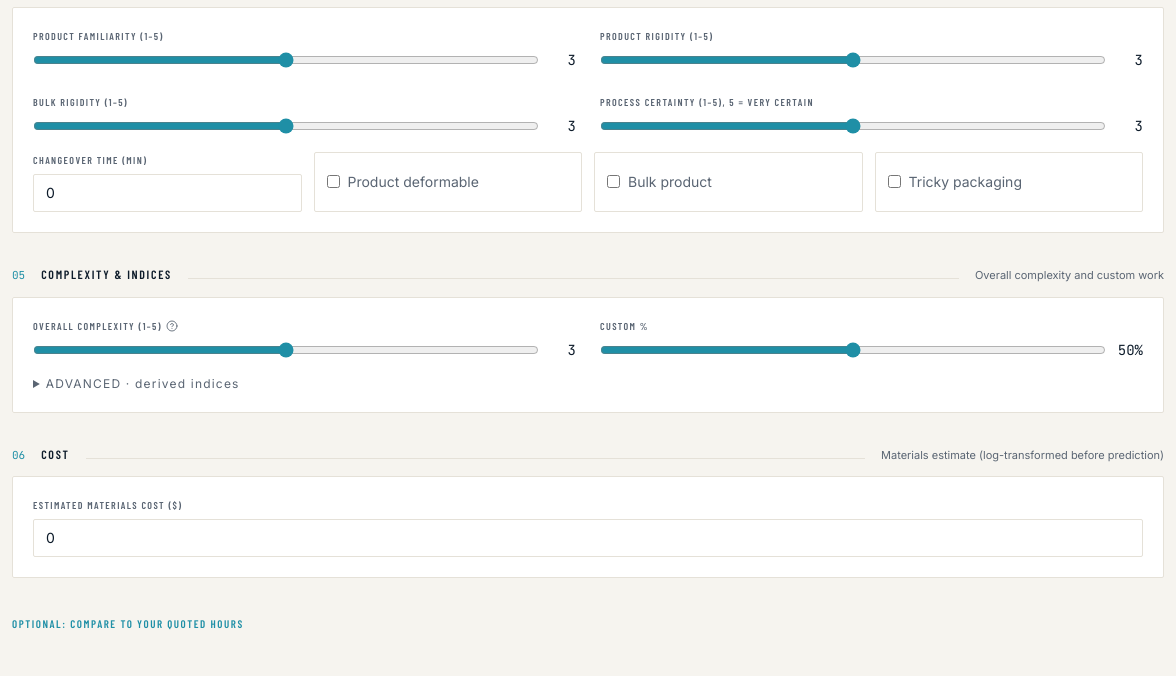
Test: QuoteForm — compare to your quoted hours panel (BUG-01) › does not show inline validation for empty input
(page scrolled)
Click the button "Optional: compare to your quoted hours". click: (128, 624)
box: [12,615,244,633]
(page scrolled)
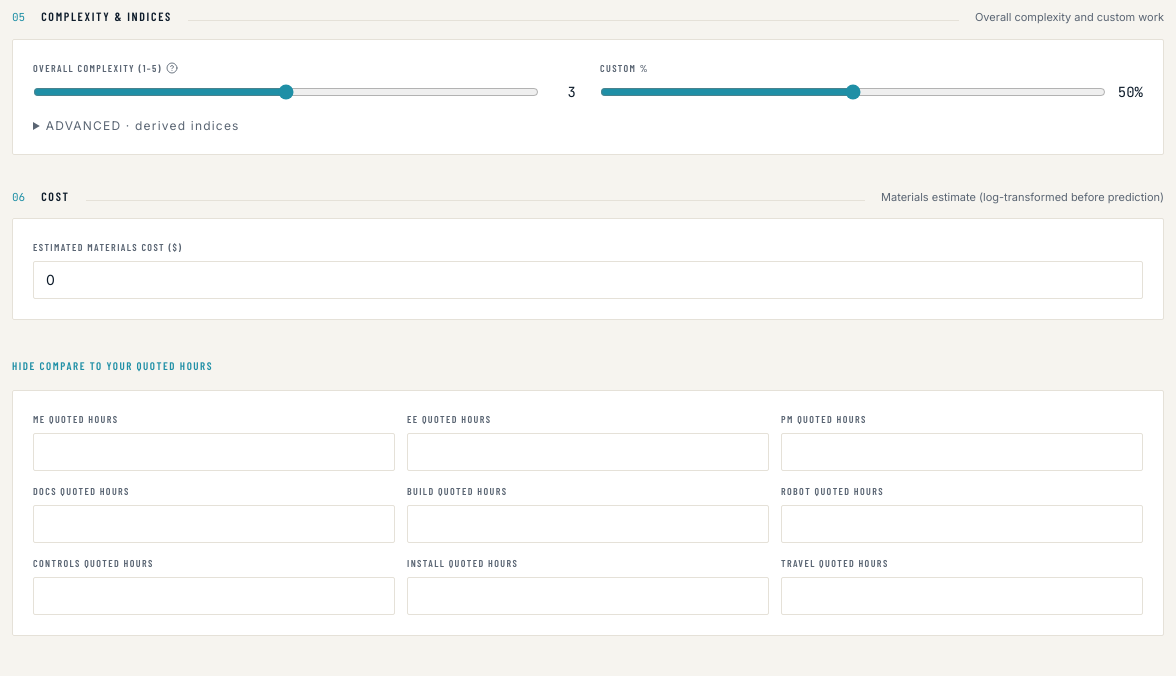
Type "abc" into the field labelled "ME quoted hours". click: (214, 452)
box: [33,433,395,471]
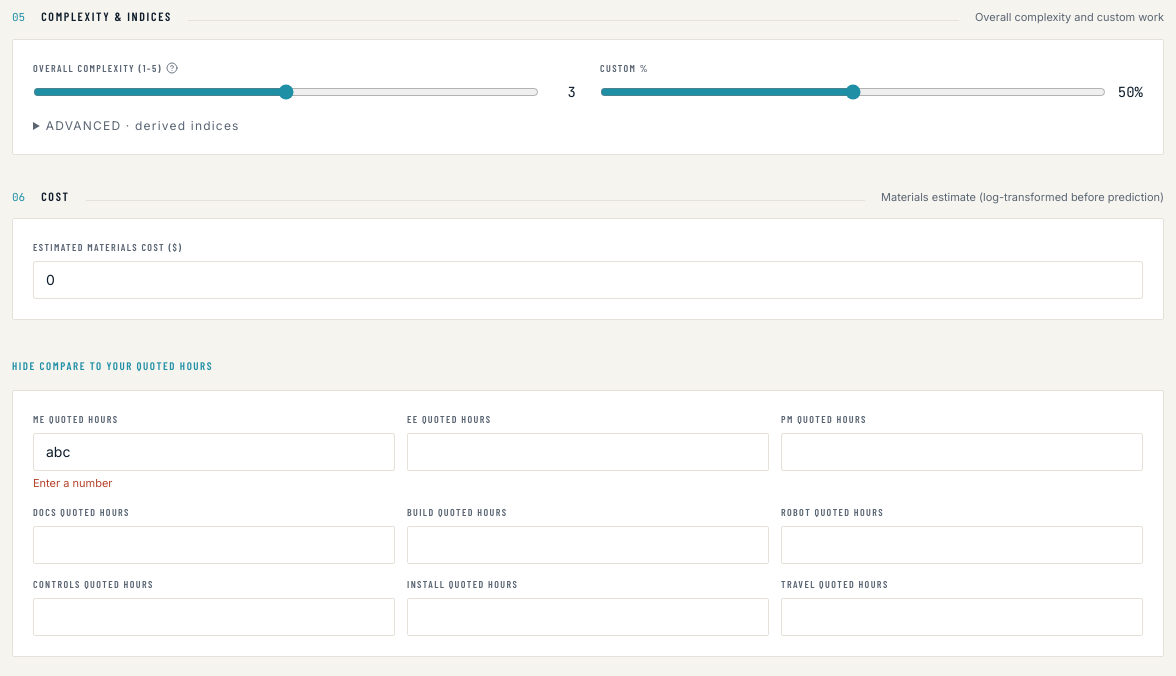
Result: the text "Enter a number" is shown at [33,476,112,490]
Clear the field labelled "ME quoted hours Enter a number". click: (214, 452)
box: [33,433,395,471]
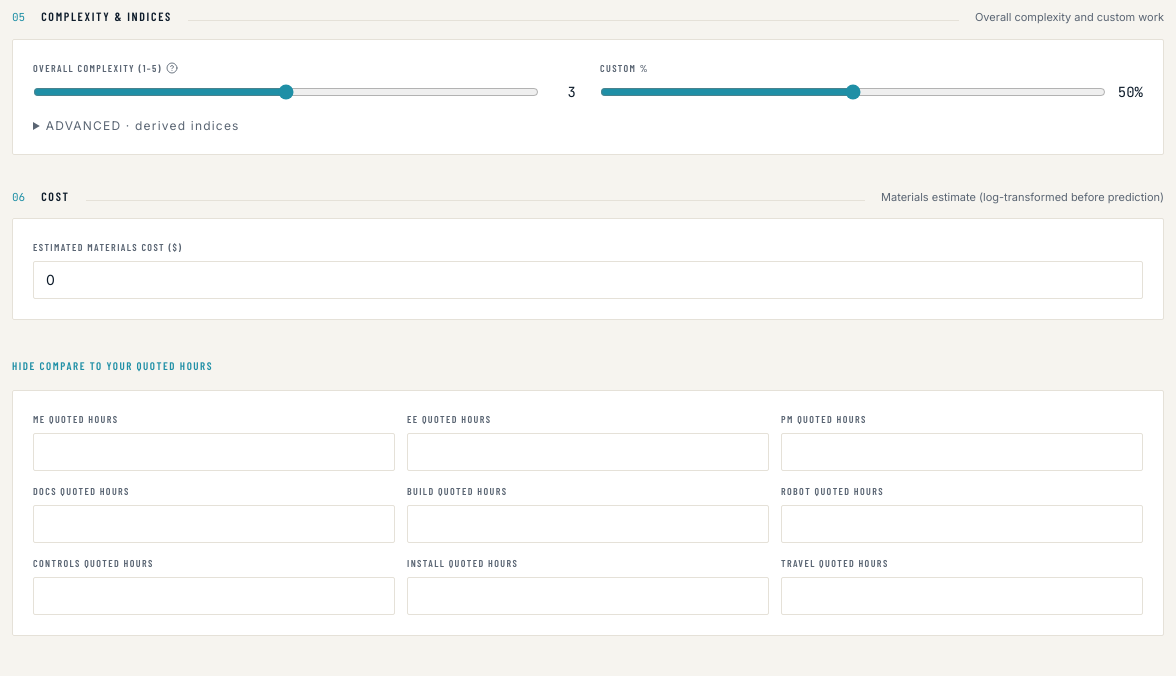
Result: the text "Enter a number" is gone
